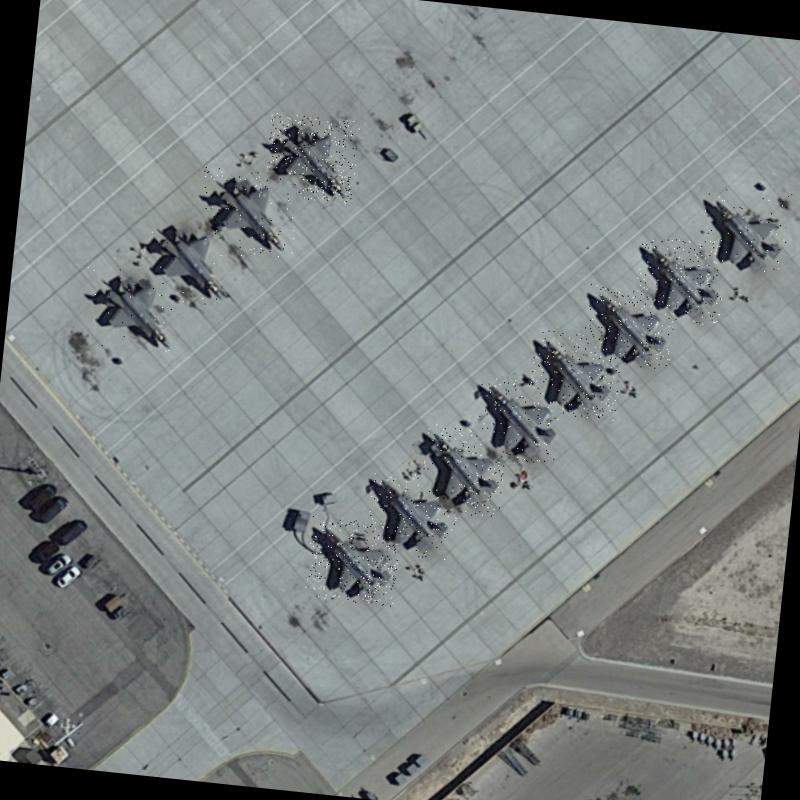A15: (195, 165, 300, 262), (77, 262, 179, 354), (138, 216, 238, 308), (263, 112, 360, 204), (528, 328, 622, 422), (632, 234, 727, 326), (365, 468, 460, 560), (304, 516, 401, 606), (418, 422, 508, 518), (580, 282, 677, 370), (698, 184, 792, 274), (472, 376, 562, 465)
